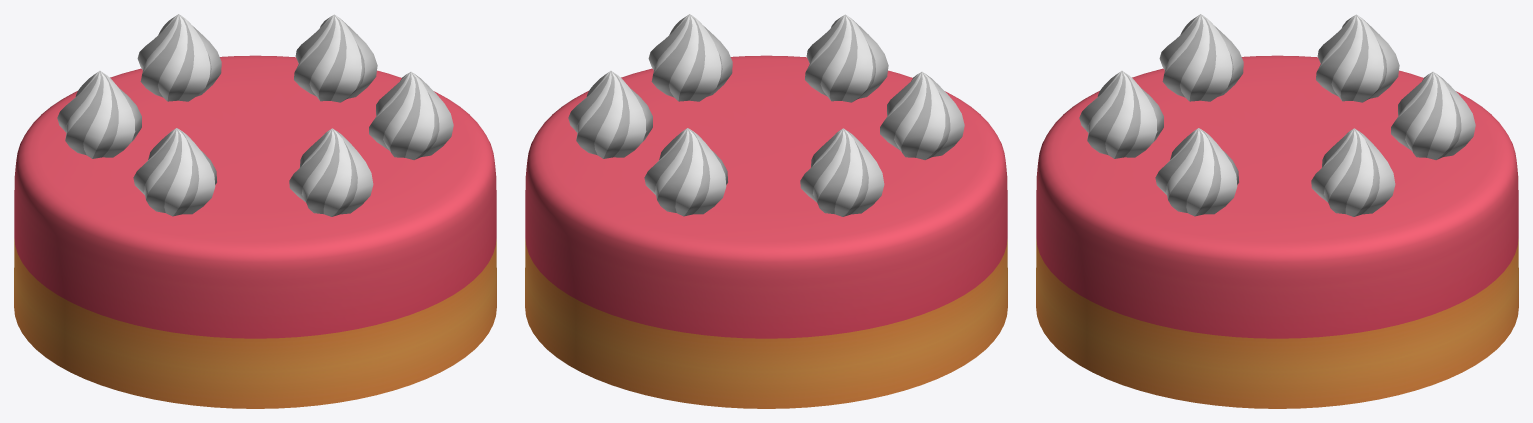
The model's file is cake06.FBX.
3 views of the same model, side by side, from view 1: azimuth 30°, elevation 25°; view 2: azimuth 150°, elevation 25°; view 3: azimuth 270°, elevation 25° (orthographic).
Visible parts, largest first — view 1: cake06; view 2: cake06; view 3: cake06.
Boxes of the visible parts, <box> form: cake06: <box>14,14,496,408</box>; cake06: <box>525,14,1007,408</box>; cake06: <box>1036,14,1518,408</box>.
Bounding box in the file's own units: 0.0193 × 0.0104 × 0.0193.
